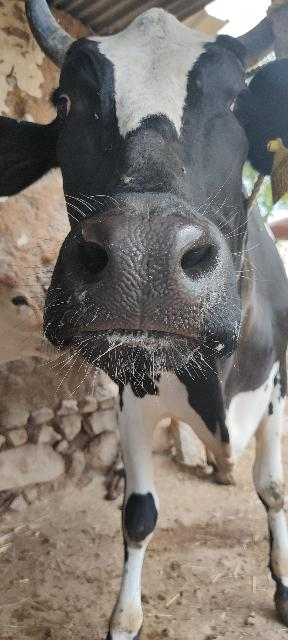Muzzle: (95, 218, 203, 348)
